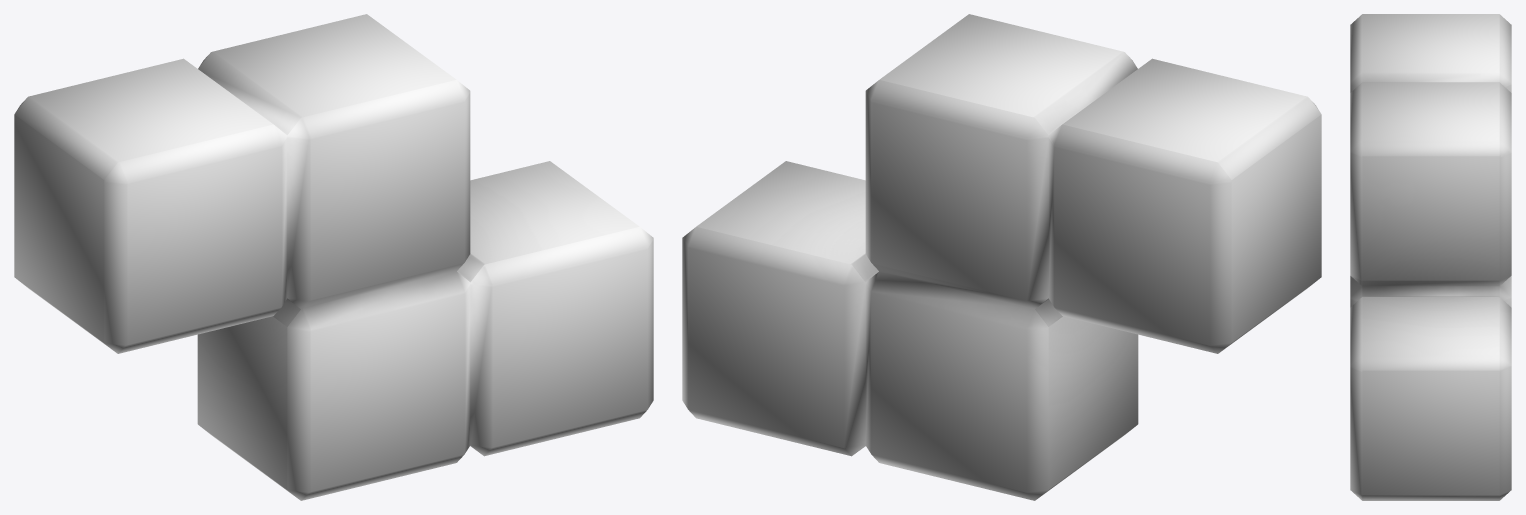
3 renders of one model, left to right at view 1: azimuth 30°, elevation 25°; view 2: azimuth 150°, elevation 25°; view 3: azimuth 270°, elevation 25°, orthographic. The views are drawn at different scales.
Visible parts, largest first — view 1: Z-shape; view 2: Z-shape; view 3: Z-shape.
Boxes of the visible parts, left/top/right/bottom form: Z-shape: left=14, top=14, right=653, bottom=500; Z-shape: left=682, top=14, right=1321, bottom=500; Z-shape: left=1350, top=14, right=1511, bottom=500.
Size of the model in its own units: 3 by 2 by 1.
